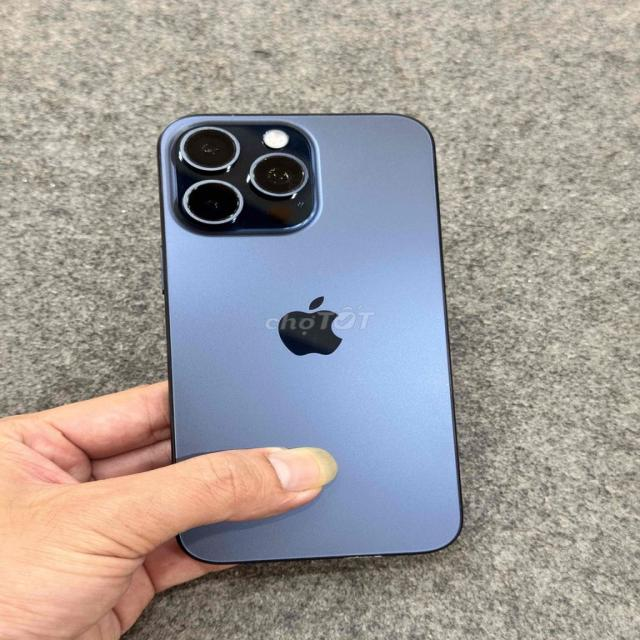gen_15: (147, 111, 470, 569)
